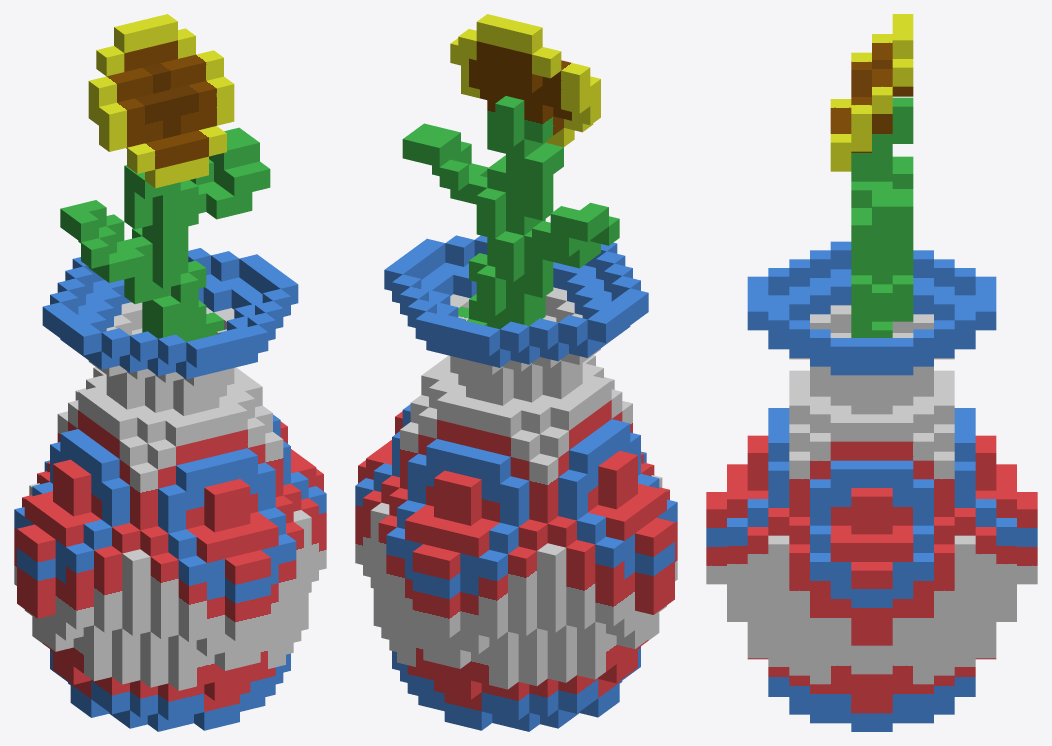
The model's file is vas-bunga_1.obj.
3 renders of one model, left to right at view 1: azimuth 30°, elevation 25°; view 2: azimuth 150°, elevation 25°; view 3: azimuth 270°, elevation 25°, orthographic. The views are drawn at different scales.
Visible parts, largest first — view 1: vas-bunga_1; view 2: vas-bunga_1; view 3: vas-bunga_1.
Part boxes in pixels (bbox=[...]): vas-bunga_1: bbox=[14, 14, 326, 731]; vas-bunga_1: bbox=[355, 14, 677, 731]; vas-bunga_1: bbox=[706, 14, 1037, 731].
Bounding box in the file's own units: 1.6 × 3.5 × 1.6.
Materials: 1 (1 with a texture image).
